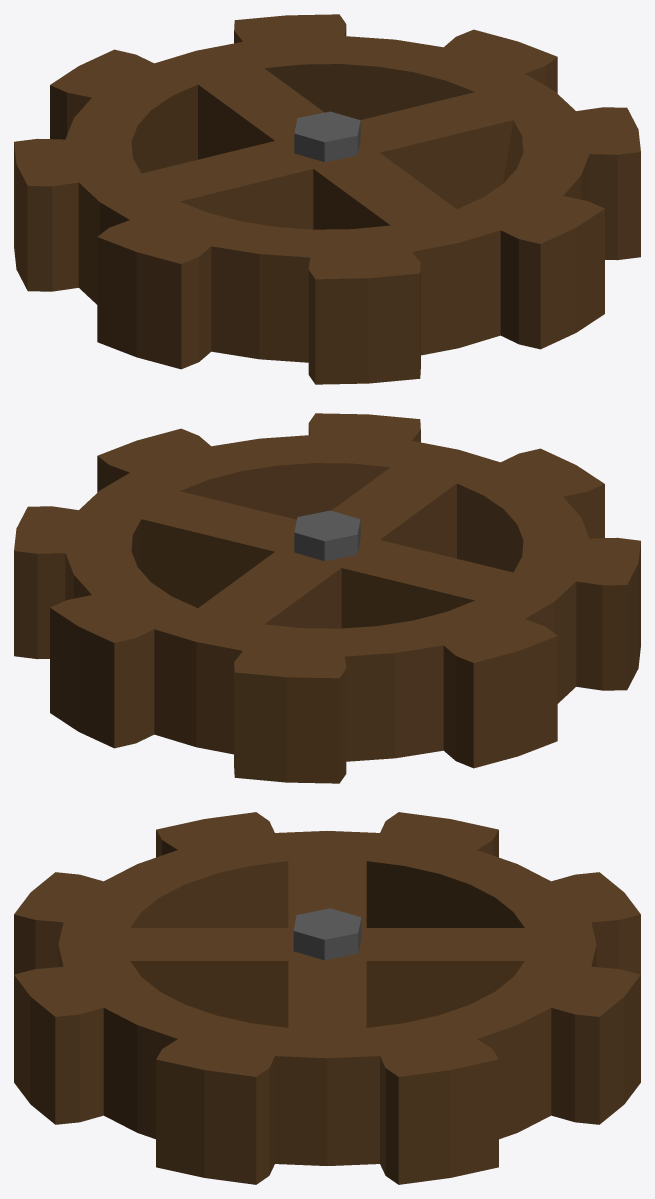
The model's file is Gear 2.5m 8t connector.fbx.
3 views of the same model, one above another, from view 1: azimuth 30°, elevation 25°; view 2: azimuth 150°, elevation 25°; view 3: azimuth 270°, elevation 25° (orthographic). The views are drawn at different scales.
Parts seen in each view (by area): view 1: Cylinder.003; view 2: Cylinder.003; view 3: Cylinder.003.
Boxes of the visible parts, x1=… form: Cylinder.003: x1=14, y1=14, x2=640, y2=384; Cylinder.003: x1=14, y1=413, x2=640, y2=783; Cylinder.003: x1=14, y1=812, x2=640, y2=1184.
Bounding box in the file's own units: 5.27 × 1.19 × 5.27.
